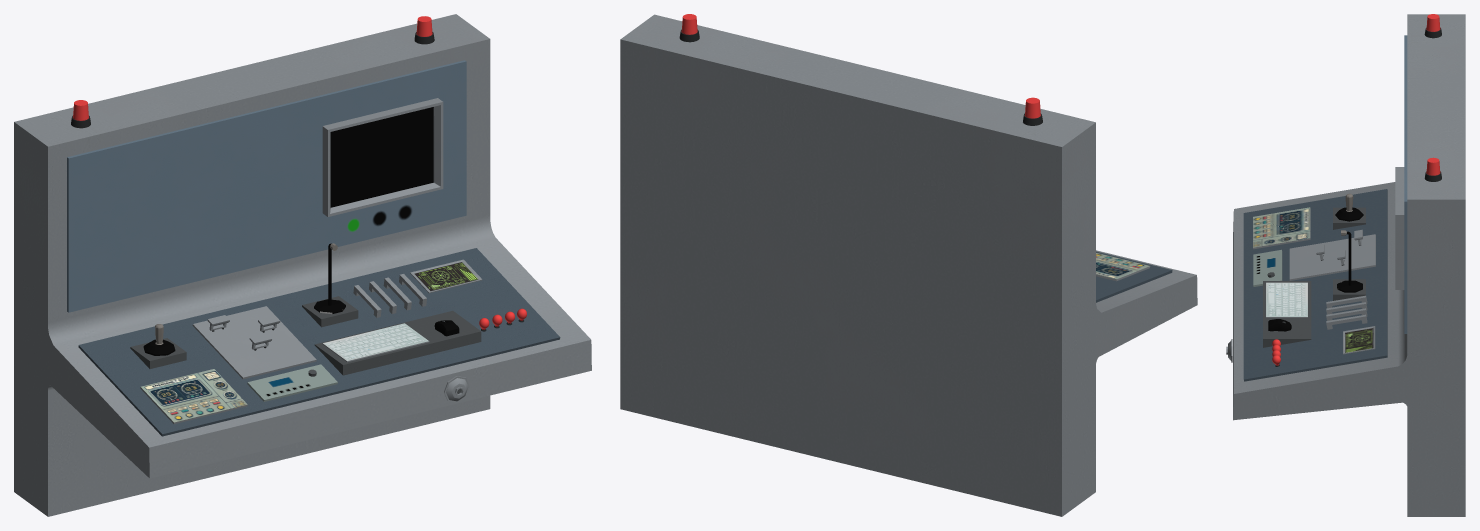
Rendered from consola.glb.
3 renders of one model, left to right at view 1: azimuth 30°, elevation 25°; view 2: azimuth 150°, elevation 25°; view 3: azimuth 270°, elevation 25°, orthographic. The views are drawn at different scales.
Parts seen in each view (by area): view 1: Maquina Op, Panel_Superior, Panel_Inferior, Pantalla, Botonera_Faders, Botonera.001, BaseTeclado, Teclado, Botonera.002, object 28, object 4, object 5 (+1 smaller); view 2: Maquina Op, Panel_Inferior, Botonera.001; view 3: Maquina Op, Panel_Inferior, Botonera_Faders, Botonera.001, Teclado, BaseTeclado, Pantalla, Panel_Superior, Botonera.002, object 28, Microfono, Palanca (+4 smaller).
Boxes of the visible parts, bbox=[...] form: Maquina Op: bbox=[14, 14, 591, 516]; Panel_Superior: bbox=[67, 60, 466, 312]; Panel_Inferior: bbox=[78, 248, 560, 436]; Pantalla: bbox=[322, 98, 443, 216]; Botonera_Faders: bbox=[192, 306, 316, 379]; Botonera.001: bbox=[140, 369, 247, 424]; BaseTeclado: bbox=[314, 310, 481, 375]; Teclado: bbox=[322, 323, 429, 362]; Botonera.002: bbox=[247, 364, 337, 401]; object 28: bbox=[410, 259, 482, 293]; object 4: bbox=[302, 296, 358, 327]; object 5: bbox=[130, 338, 186, 368]; Maquina Op: bbox=[620, 14, 1197, 516]; Panel_Inferior: bbox=[1096, 251, 1172, 302]; Botonera.001: bbox=[1096, 253, 1150, 281]; Maquina Op: bbox=[1233, 14, 1465, 516]; Panel_Inferior: bbox=[1243, 189, 1387, 381]; Botonera_Faders: bbox=[1289, 234, 1375, 280]; Botonera.001: bbox=[1253, 207, 1310, 249]; Teclado: bbox=[1266, 282, 1307, 317]; BaseTeclado: bbox=[1263, 281, 1311, 347]; Pantalla: bbox=[1395, 167, 1404, 289]; Panel_Superior: bbox=[1404, 35, 1407, 333]; Botonera.002: bbox=[1253, 249, 1282, 286]; object 28: bbox=[1343, 326, 1375, 354]; Microfono: bbox=[1337, 230, 1362, 292]; Palanca: bbox=[1335, 193, 1363, 221].
Bounding box in the file's own units: 2.2 × 1.86 × 1.2.
3 materials, 3 textured.
